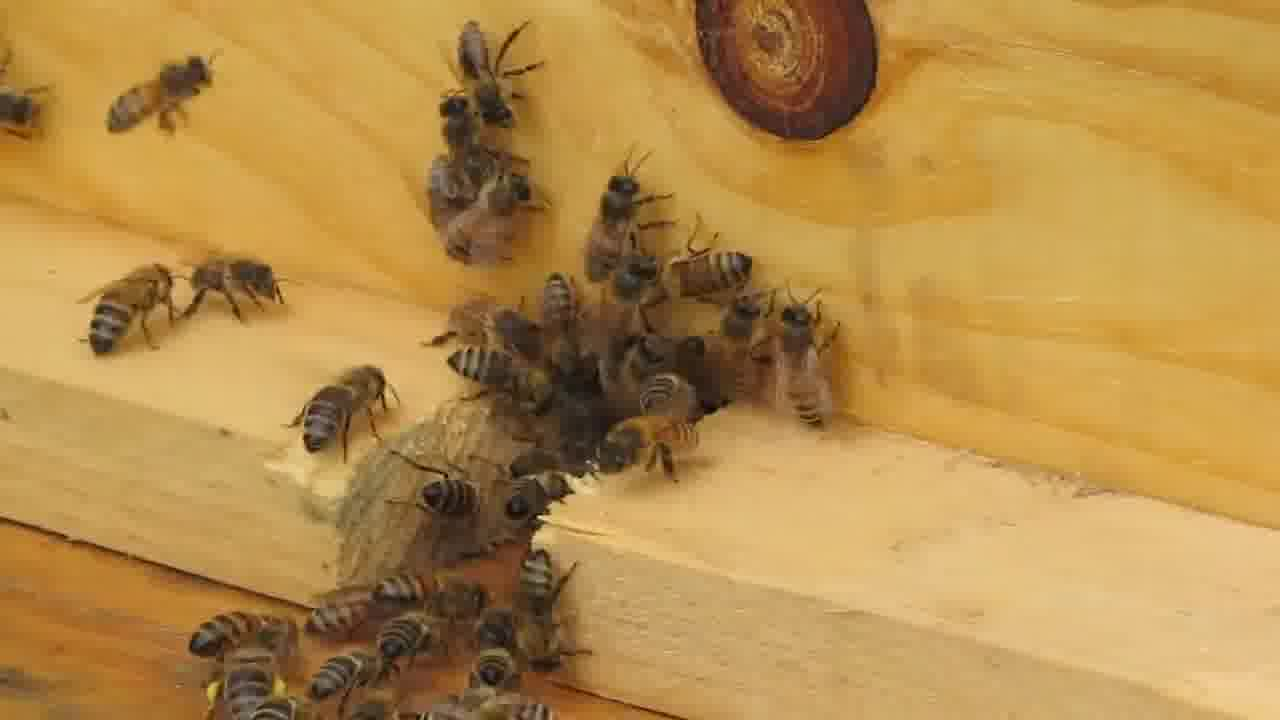pollen: (207, 649, 292, 709)
